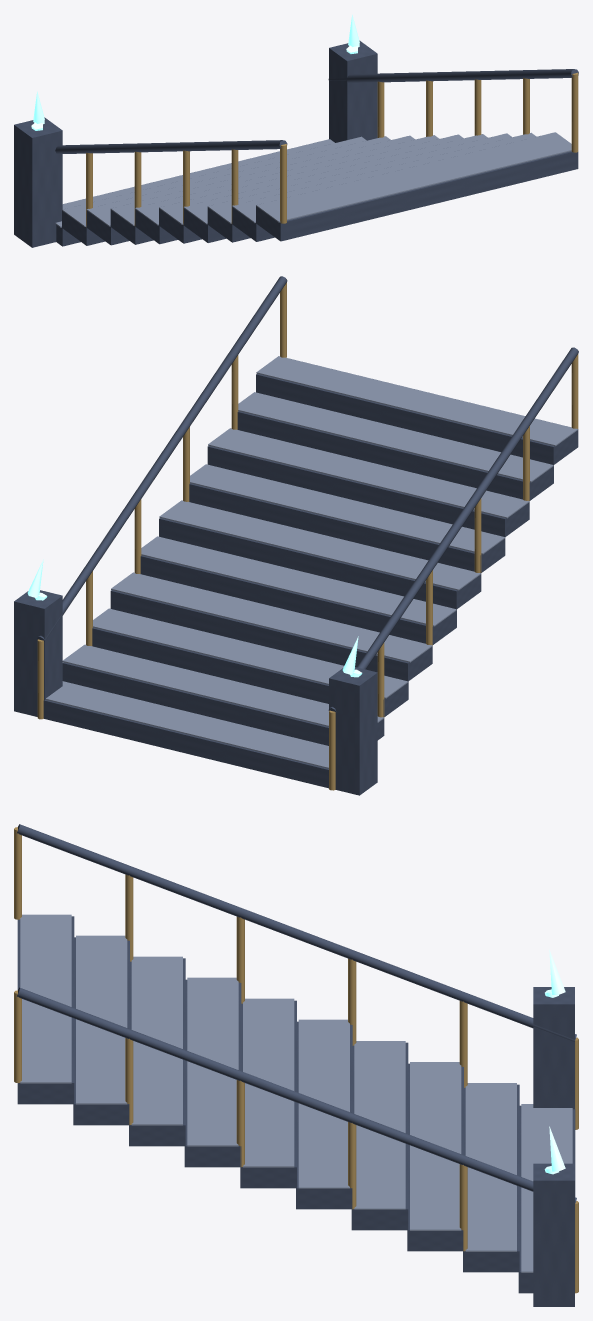
Rendered from stairs-ceremonial.glb.
3 renders of one model, top to bottom at view 1: azimuth 30°, elevation 25°; view 2: azimuth 150°, elevation 25°; view 3: azimuth 270°, elevation 25°, orthographic. The views are drawn at different scales.
Visible parts, largest first — view 1: stairs-ceremonial_stone, stairs-ceremonial_edge, stairs-ceremonial_gold, stairs-ceremonial_glow; view 2: stairs-ceremonial_stone, stairs-ceremonial_edge, stairs-ceremonial_gold, stairs-ceremonial_glow; view 3: stairs-ceremonial_edge, stairs-ceremonial_stone, stairs-ceremonial_gold, stairs-ceremonial_glow.
Boxes of the visible parts, bbox=[...] form: stairs-ceremonial_stone: bbox=[14, 40, 578, 247]; stairs-ceremonial_edge: bbox=[55, 132, 571, 227]; stairs-ceremonial_gold: bbox=[86, 72, 578, 227]; stairs-ceremonial_glow: bbox=[31, 15, 359, 130]; stairs-ceremonial_stone: bbox=[14, 276, 578, 795]; stairs-ceremonial_edge: bbox=[45, 356, 577, 768]; stairs-ceremonial_gold: bbox=[37, 279, 578, 790]; stairs-ceremonial_glow: bbox=[27, 559, 362, 677]; stairs-ceremonial_edge: bbox=[20, 914, 572, 1272]; stairs-ceremonial_stone: bbox=[17, 824, 576, 1306]; stairs-ceremonial_gold: bbox=[14, 827, 578, 1293]; stairs-ceremonial_glow: bbox=[544, 949, 565, 1174].
Bounding box in the file's own units: 3.95 × 2.89 × 4.87.
Materials: 4 (1 with a texture image).
